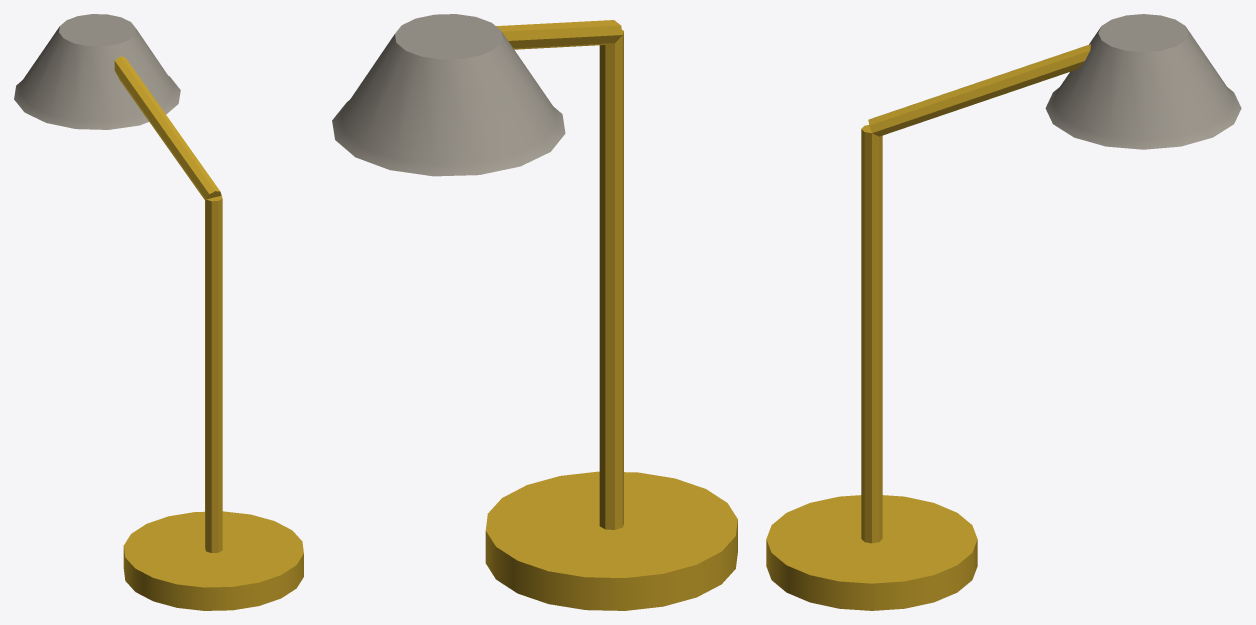
Rendered from prop_desk_lamp.glb.
3 renders of one model, left to right at view 1: azimuth 30°, elevation 25°; view 2: azimuth 150°, elevation 25°; view 3: azimuth 270°, elevation 25°, orthographic. The views are drawn at different scales.
Visible parts, largest first — view 1: Lamp; view 2: Lamp; view 3: Lamp.
Part boxes in pixels (<box>): Lamp: <box>14,14,303,610</box>; Lamp: <box>332,14,737,610</box>; Lamp: <box>766,14,1241,610</box>.
Size of the model in its own units: 0.14 by 0.39 by 0.315.
